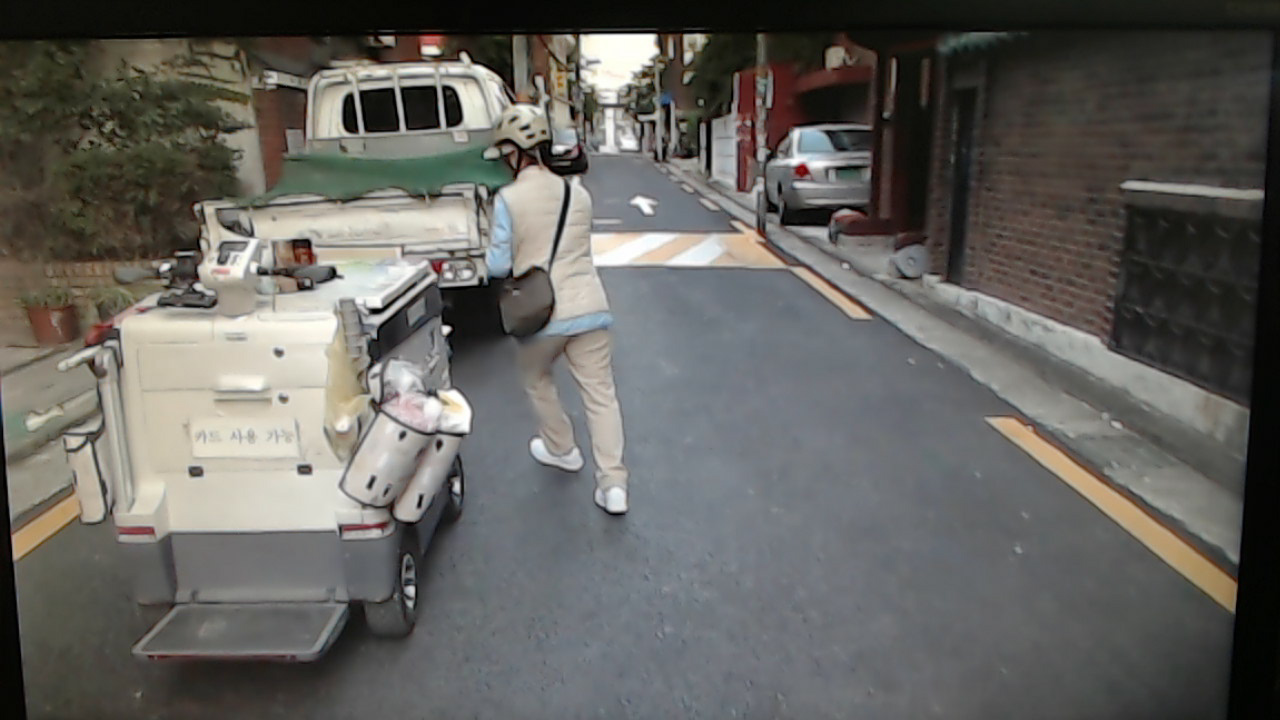Yakurut: (468, 94, 651, 527)
